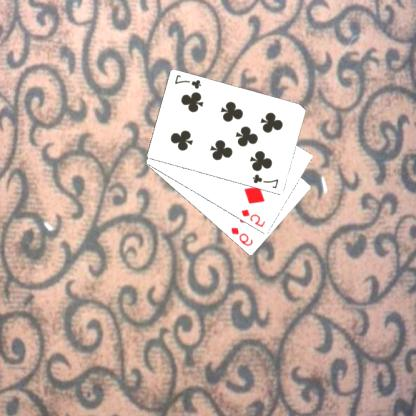5D: (240, 206, 268, 228)
6D: (230, 225, 256, 247)
7C: (252, 171, 282, 190), (174, 72, 204, 90)
